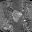people: (11, 10, 22, 22)
